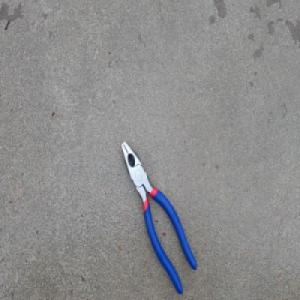Pliers: (120, 140, 198, 293)
